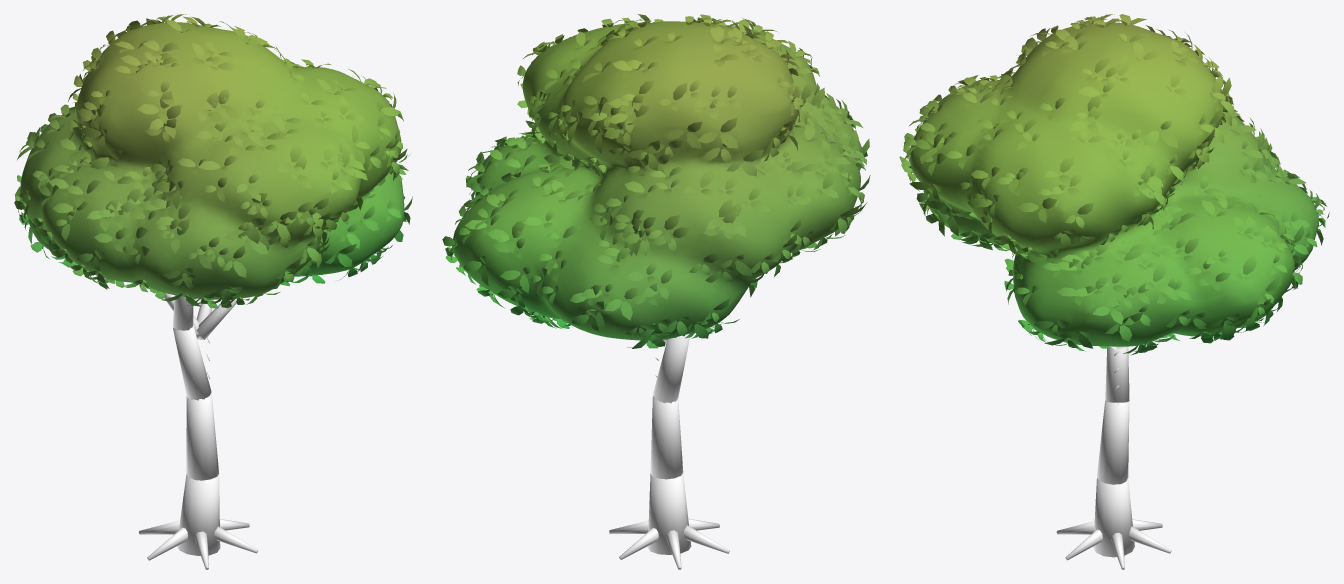
File: beech_canopy_6.glb
3 renders of one model, left to right at view 1: azimuth 30°, elevation 25°; view 2: azimuth 150°, elevation 25°; view 3: azimuth 270°, elevation 25°, orthographic. The views are drawn at different scales.
Visible parts, largest first — view 1: beech_canopy_6_Leaves, beech_canopy_6_Bark, beech_canopy_6_UpperBranches; view 2: beech_canopy_6_Leaves, beech_canopy_6_Bark, beech_canopy_6_UpperBranches; view 3: beech_canopy_6_Leaves, beech_canopy_6_Bark, beech_canopy_6_UpperBranches.
Boxes of the visible parts, box(x1,y1,x2,y2) form: beech_canopy_6_Leaves: box(14, 14, 412, 308); beech_canopy_6_Bark: box(139, 431, 258, 569); beech_canopy_6_UpperBranches: box(164, 293, 236, 436); beech_canopy_6_Leaves: box(442, 14, 870, 348); beech_canopy_6_Bark: box(609, 432, 729, 569); beech_canopy_6_UpperBranches: box(651, 333, 689, 437); beech_canopy_6_Leaves: box(899, 14, 1329, 355); beech_canopy_6_Bark: box(1056, 436, 1171, 569); beech_canopy_6_UpperBranches: box(1101, 346, 1129, 441).
Size of the model in its own units: 13.96 by 18.74 by 14.37.
